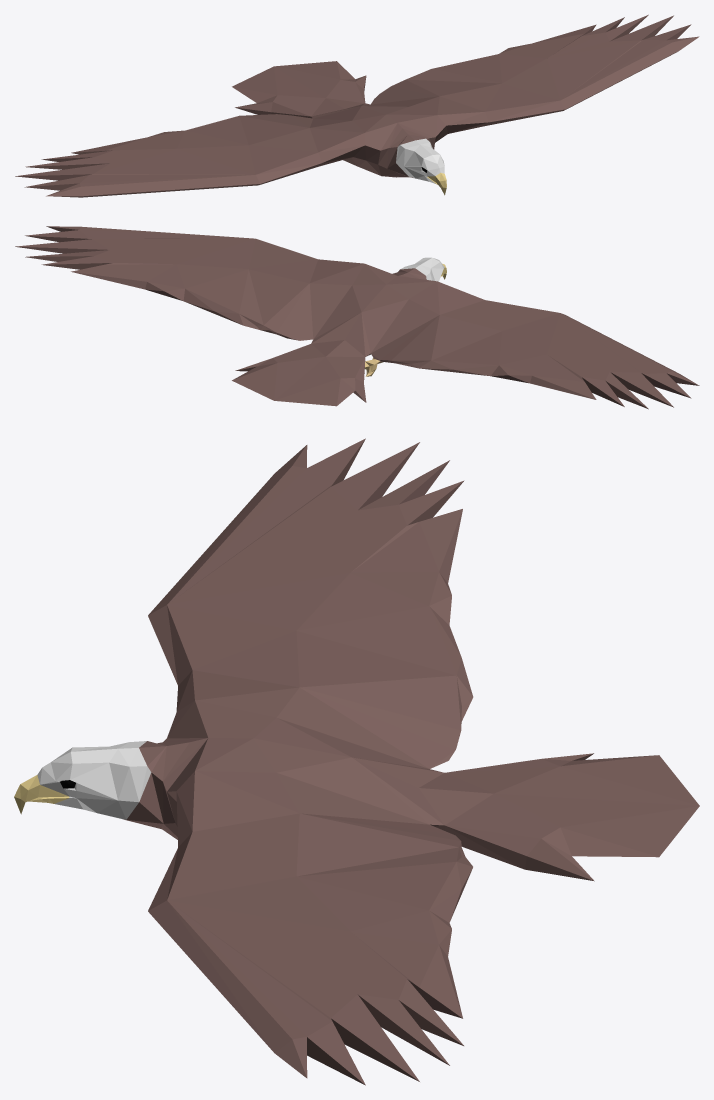
File: birdsA_eagle.gltf
3 views of the same model, one above another, from view 1: azimuth 30°, elevation 25°; view 2: azimuth 150°, elevation 25°; view 3: azimuth 270°, elevation 25° (orthographic). The views are drawn at different scales.
Parts seen in each view (by area): view 1: eagle_colorMap; view 2: eagle_colorMap; view 3: eagle_colorMap.
Boxes of the visible parts, x1,y1,x2,y2 form: eagle_colorMap: [15, 14, 699, 197]; eagle_colorMap: [15, 226, 699, 409]; eagle_colorMap: [14, 438, 699, 1085].
Bounding box in the file's own units: 219 × 18.89 × 98.11.
